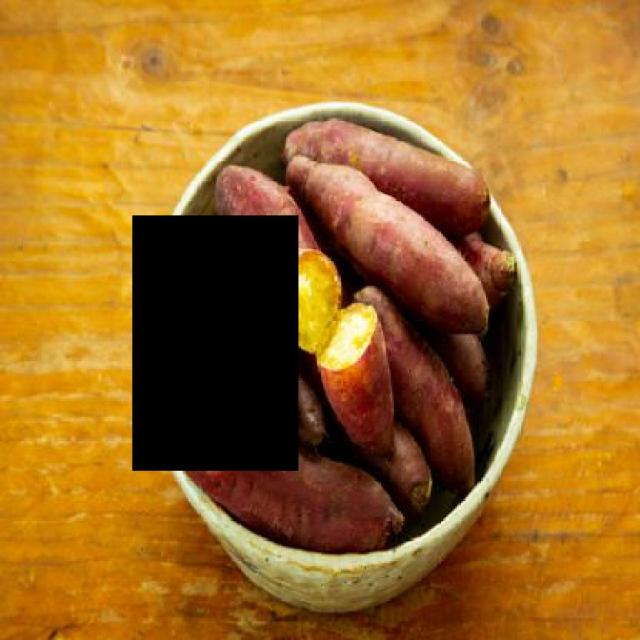Sweet_Potato: (132, 216, 298, 470)
